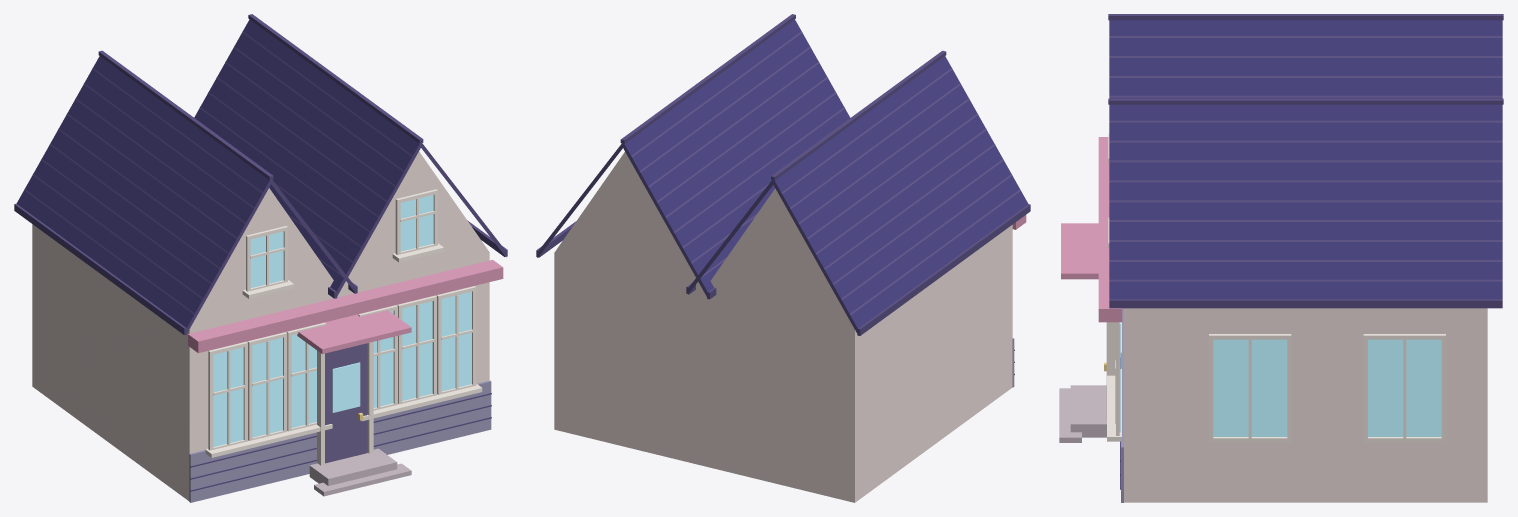
File: atelier.glb
3 renders of one model, left to right at view 1: azimuth 30°, elevation 25°; view 2: azimuth 150°, elevation 25°; view 3: azimuth 270°, elevation 25°, orthographic. The views are drawn at different scales.
Parts seen in each view (by area): view 1: roof, wall, details, windows, door; view 2: wall, roof; view 3: roof, wall, windows, details.
Part boxes in pixels (x1,y1,x2,y2): roof: (14, 14, 507, 335); wall: (32, 151, 491, 502); details: (188, 189, 503, 496); windows: (213, 195, 471, 446); door: (325, 343, 367, 463); wall: (554, 152, 1014, 502); roof: (536, 14, 1030, 335); roof: (1108, 14, 1503, 308); wall: (1120, 308, 1487, 502); windows: (1119, 322, 1441, 436); details: (1059, 133, 1445, 442).
Size of the model in its own units: 3.8 by 3.5 by 3.91.
